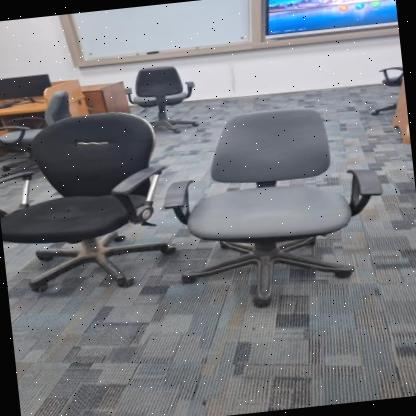chair: (150, 94, 397, 319), (0, 98, 176, 305), (116, 56, 205, 140)
